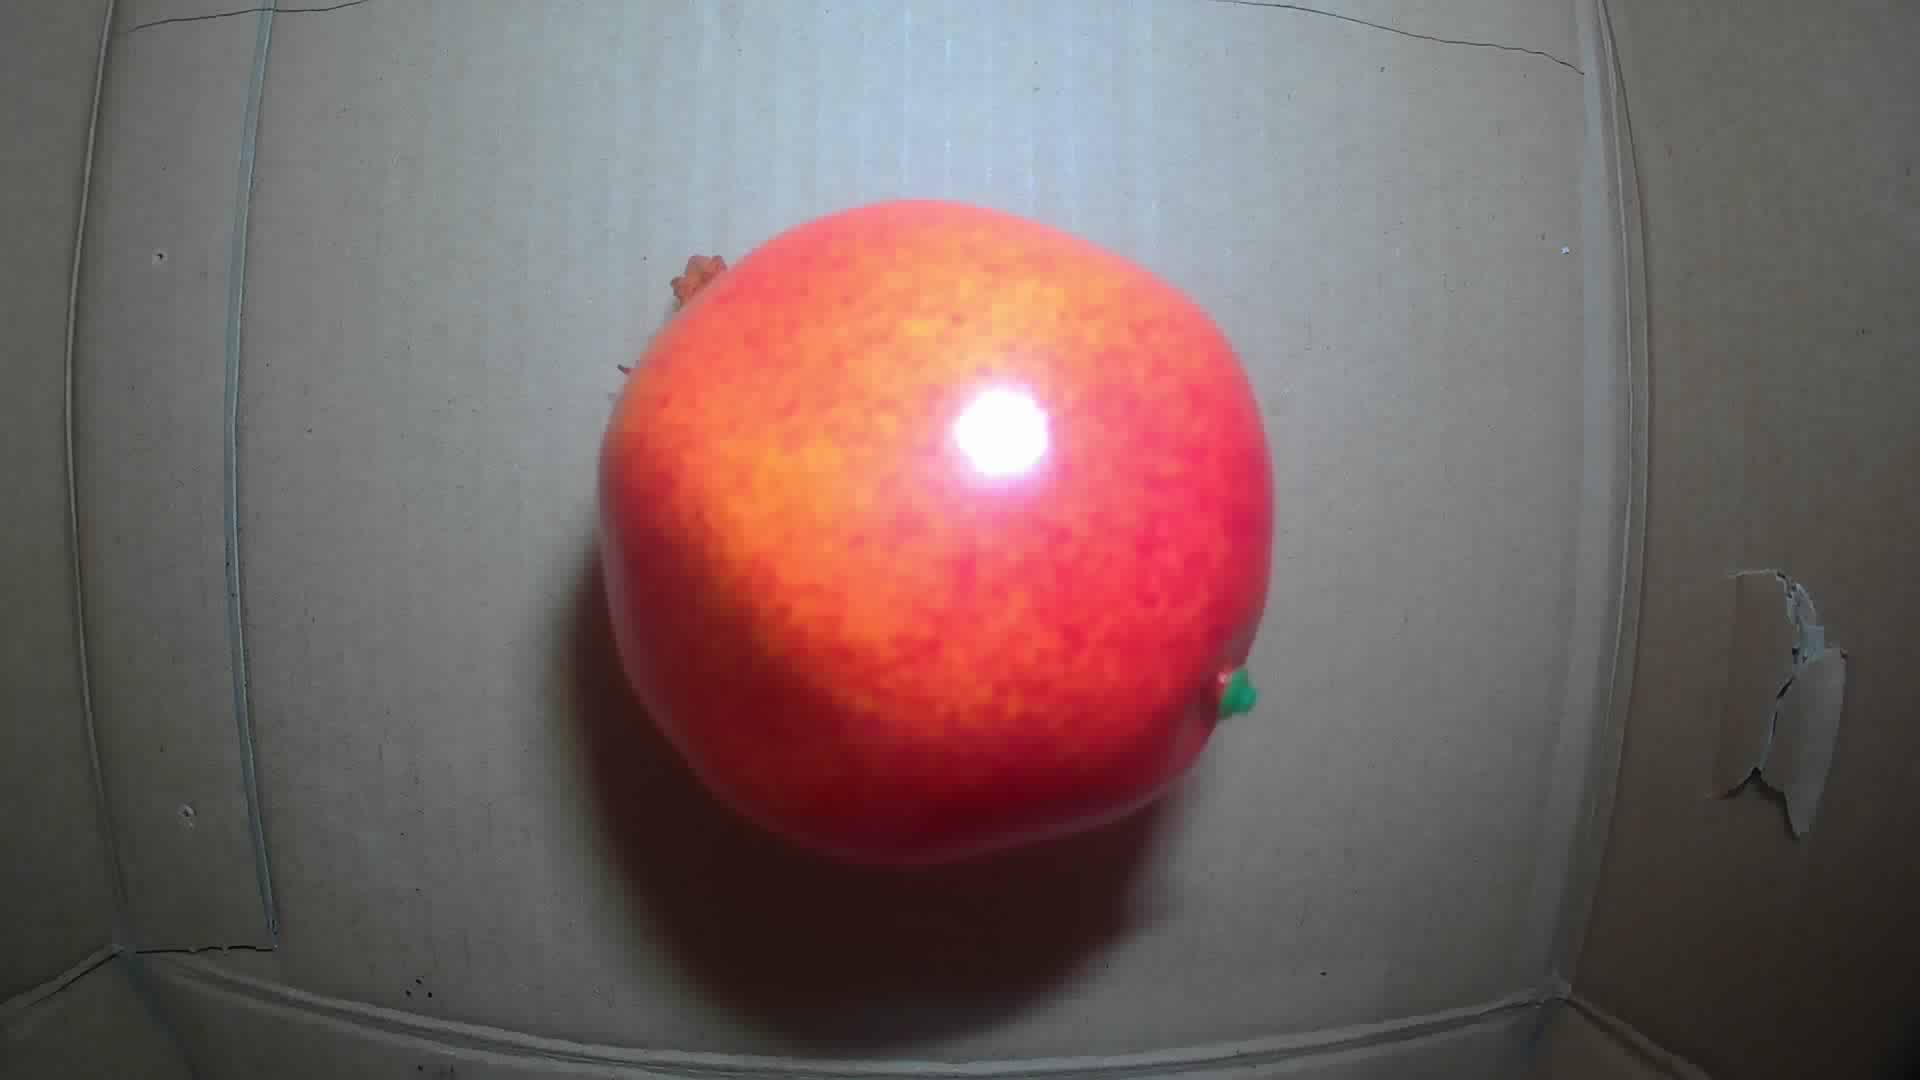pomegranate: (596, 195, 1276, 872)
